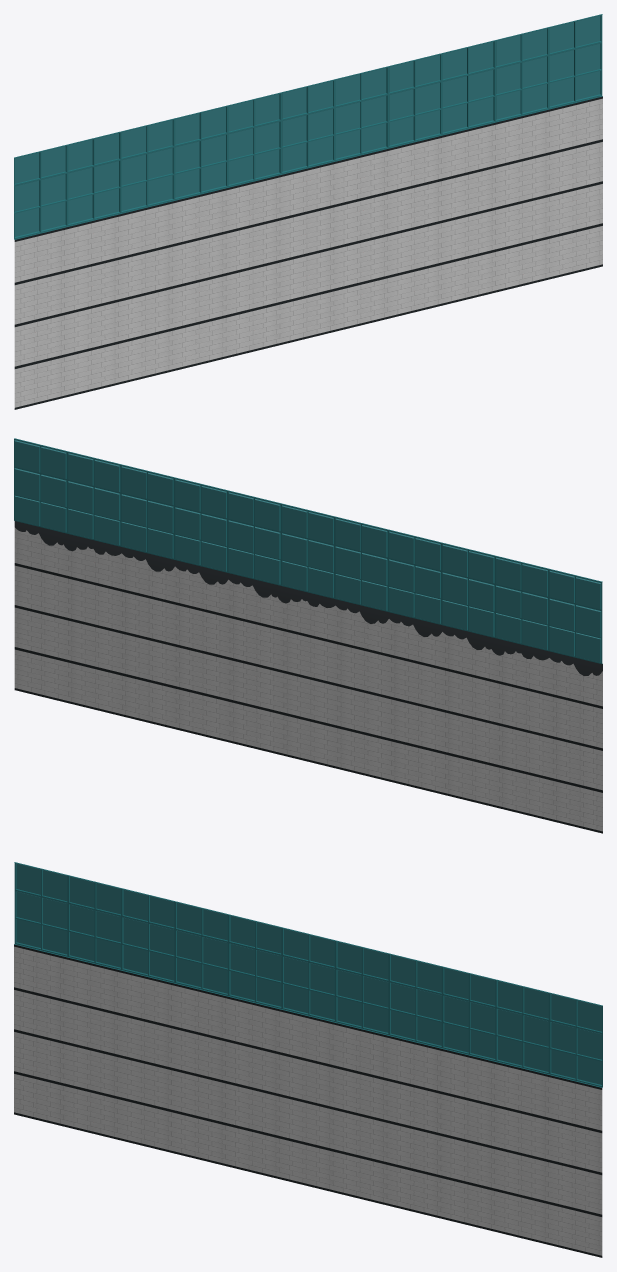
Rendered from squidgame_props_wall2.fbx.
3 renders of one model, top to bottom at view 1: azimuth 30°, elevation 25°; view 2: azimuth 150°, elevation 25°; view 3: azimuth 330°, elevation 25°, orthographic.
Visible parts, largest first — view 1: squidgame_props_wall2; view 2: squidgame_props_wall2; view 3: squidgame_props_wall2.
Part boxes in pixels (x1,y1,x2,y2): squidgame_props_wall2: (14, 14, 602, 409); squidgame_props_wall2: (14, 438, 602, 833); squidgame_props_wall2: (14, 862, 602, 1257).
Bounding box in the file's own units: 22 × 9 × 0.0824.
